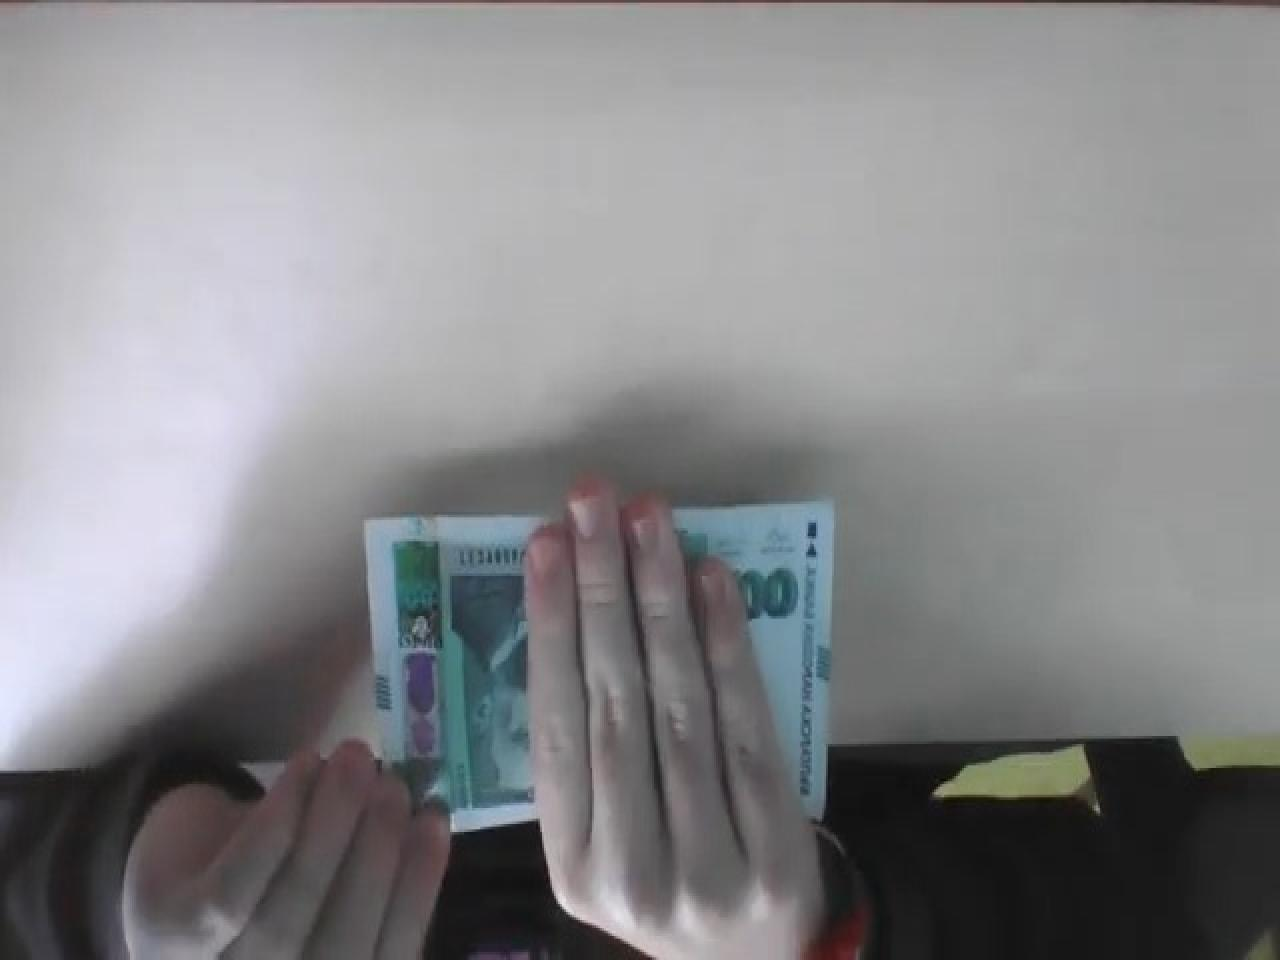100leva: (362, 496, 836, 832)
